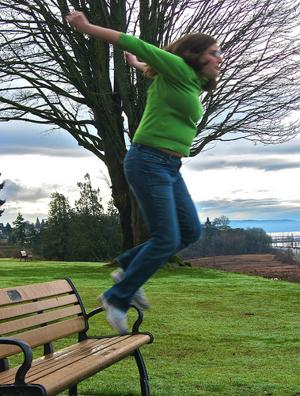person: (67, 11, 222, 336)
